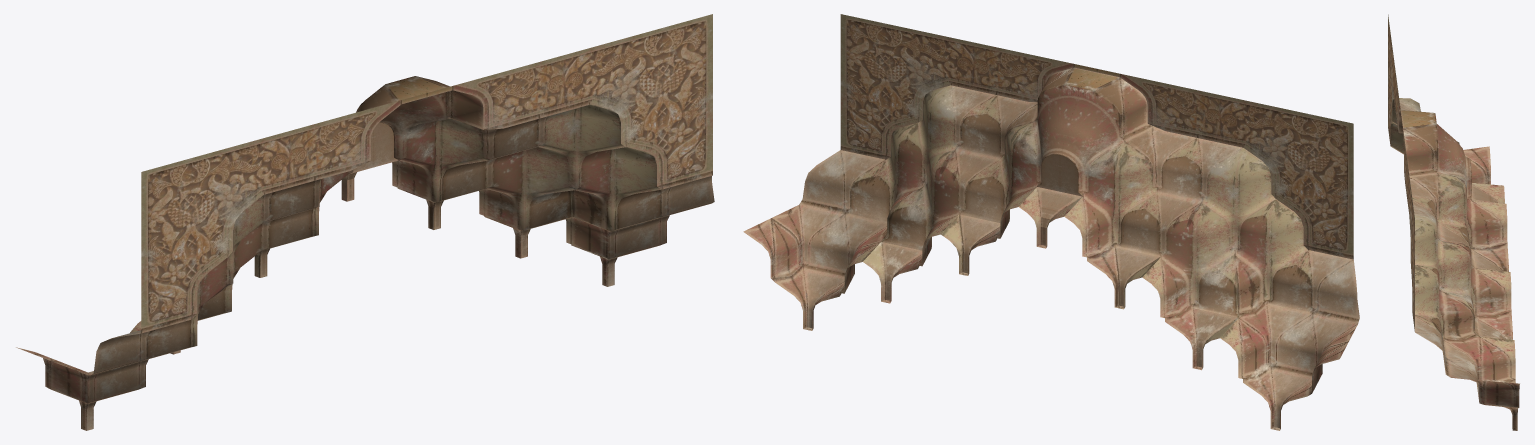
Rendered from fach-muro1.glb.
3 renders of one model, left to right at view 1: azimuth 30°, elevation 25°; view 2: azimuth 150°, elevation 25°; view 3: azimuth 270°, elevation 25°, orthographic. The views are drawn at different scales.
Parts seen in each view (by area): view 1: Object_2; view 2: Object_2; view 3: Object_2.
Part boxes in pixels (x1,y1,x2,y2): Object_2: [16, 14, 714, 430]; Object_2: [743, 14, 1359, 430]; Object_2: [1388, 14, 1519, 430].
Bounding box in the file's own units: 34.96 × 15.29 × 8.27.
Materials: 1 (1 with a texture image).
